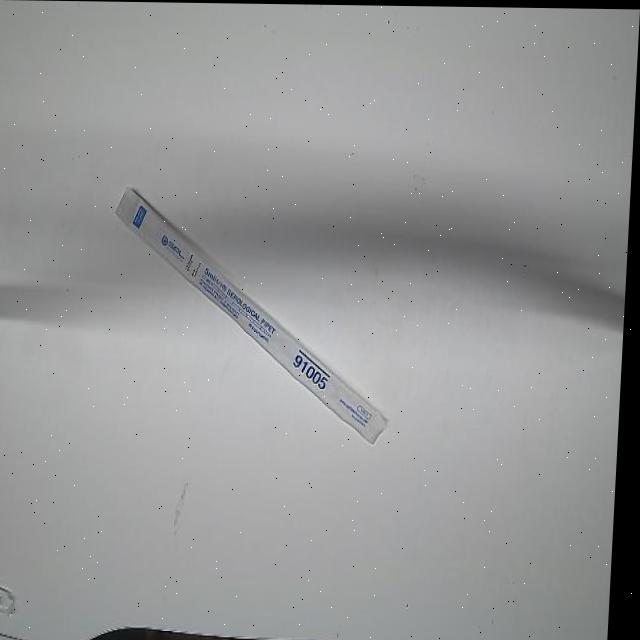Serelogical Pipet 5 mL - Sealed: (107, 171, 404, 448)
